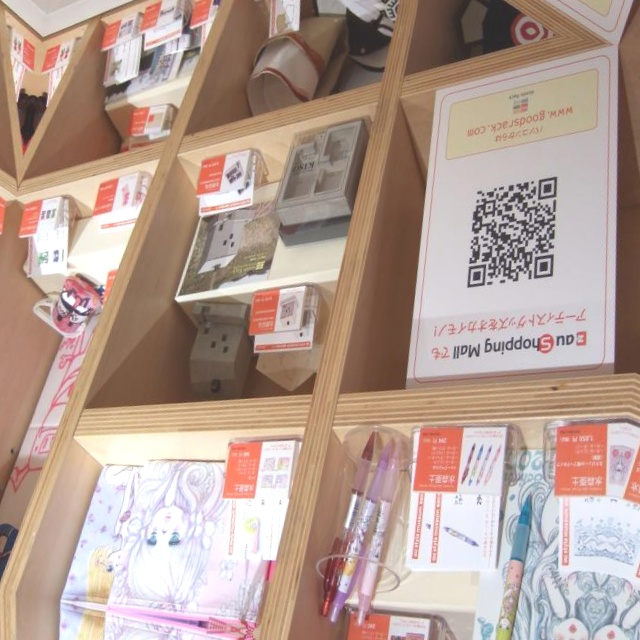qr-code: (459, 164, 569, 301)
